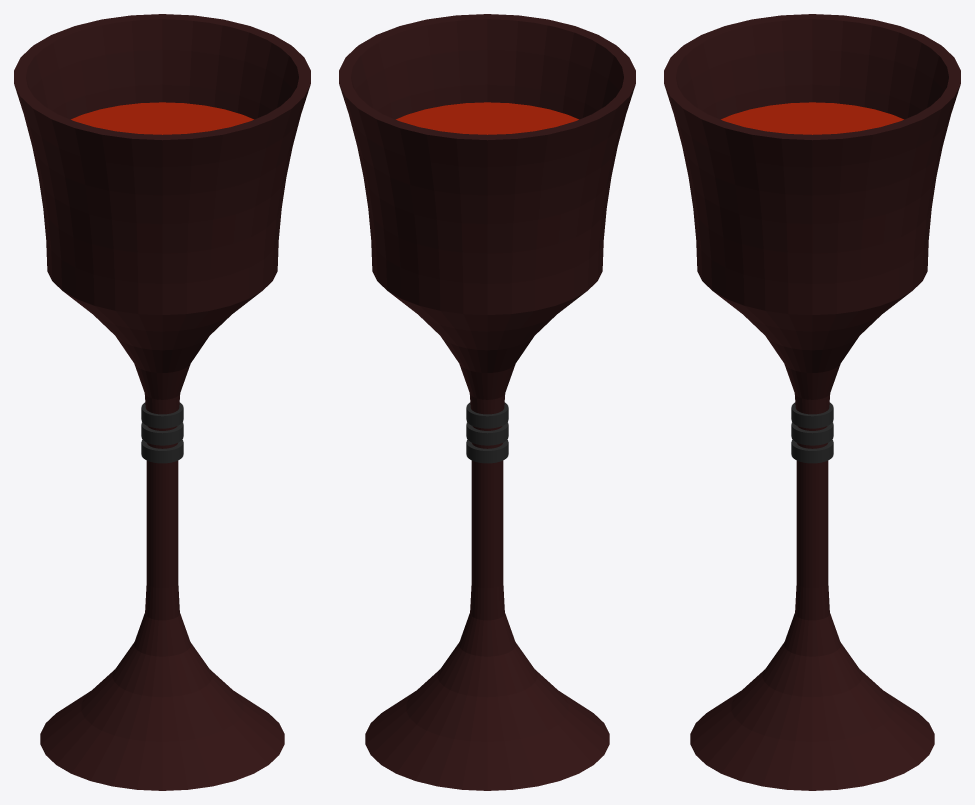
Rendered from бокал2.fbx.
3 renders of one model, left to right at view 1: azimuth 30°, elevation 25°; view 2: azimuth 150°, elevation 25°; view 3: azimuth 270°, elevation 25°, orthographic.
Visible parts, largest first — view 1: Цилиндр_2, Цилиндр, Цилиндр_1, Цилиндр_3, Цилиндр_2_2; view 2: Цилиндр_2, Цилиндр, Цилиндр_1, Цилиндр_3, Цилиндр_2_2; view 3: Цилиндр_2, Цилиндр, Цилиндр_1, Цилиндр_3, Цилиндр_2_2.
Boxes of the visible parts, left/top/right/bottom form: Цилиндр_2: left=14, top=14, right=310, bottom=790; Цилиндр: left=71, top=102, right=253, bottom=134; Цилиндр_1: left=141, top=402, right=183, bottom=428; Цилиндр_3: left=141, top=440, right=183, bottom=463; Цилиндр_2_2: left=141, top=422, right=183, bottom=445; Цилиндр_2: left=339, top=14, right=635, bottom=790; Цилиндр: left=396, top=102, right=578, bottom=134; Цилиндр_1: left=466, top=402, right=508, bottom=428; Цилиндр_3: left=466, top=440, right=508, bottom=463; Цилиндр_2_2: left=466, top=422, right=508, bottom=445; Цилиндр_2: left=664, top=14, right=960, bottom=790; Цилиндр: left=721, top=102, right=903, bottom=134; Цилиндр_1: left=791, top=402, right=833, bottom=428; Цилиндр_3: left=791, top=440, right=833, bottom=463; Цилиндр_2_2: left=791, top=422, right=833, bottom=445.
Size of the model in its own units: 18.86 by 46.14 by 18.76.
